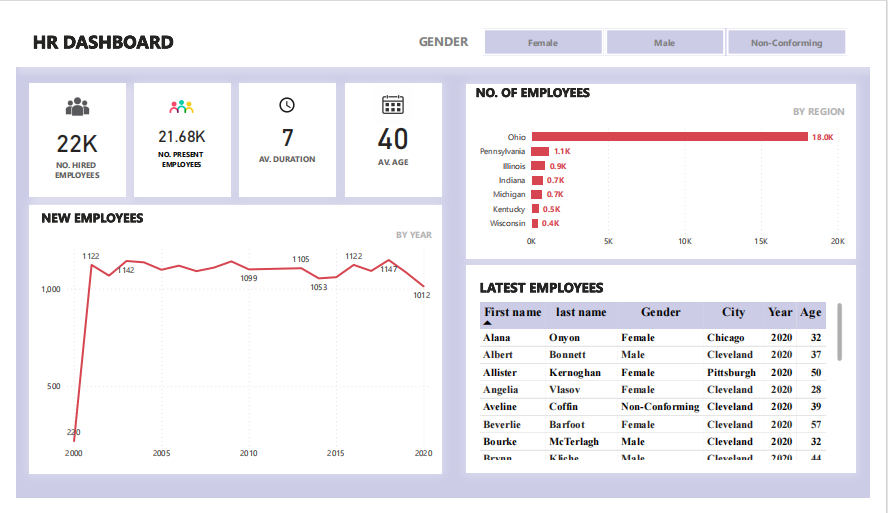

This screenshot's page, from the dashboard's own definition file:
{"tool":"powerbi","page":{"name":"Page 1","canvas":[1280,720],"ordinal":0},"visuals":[{"type":"shape","box":[0,0,1280,74.9],"z":0},{"type":"textbox","box":[20.2,13,260.6,49],"z":1000},{"type":"card","fields":{"Values":["Sum(present employees.Column1)"]},"box":[177.1,99.6,144,169.9],"z":2000},{"type":"card","fields":{"Values":["CountNonNull(HR Data.id)"]},"box":[20.2,98.9,144,169.9],"z":3000},{"type":"card","fields":{"Values":["Sum(average length of employment.Column1)"]},"box":[335,99.6,144,169.9],"z":4000},{"type":"image","box":[51.8,96,80.6,76.3],"z":5000},{"type":"card","fields":{"Values":["HR work.avg_age"]},"box":[493.9,99.6,144,169.9],"z":6000},{"type":"clusteredBarChart","title":"NO. OF EMPLOYEES","fields":{"Y":["CountNonNull(HR work.id)"],"Category":["HR work.location_state"]},"box":[675.4,99.6,583.2,262.1],"z":7000},{"type":"lineChart","title":"NEW EMPLOYEES","fields":{"Category":["HR work.hire_date.Variation.Date Hierarchy.Year","HR work.hire_date.Variation.Date Hierarchy.Quarter","HR work.hire_date.Variation.Date Hierarchy.Month","HR work.hire_date.Variation.Date Hierarchy.Day"],"Y":["CountNonNull(HR work.department)"]},"box":[20.2,281.8,617.8,401.8],"z":8000},{"type":"tableEx","title":"LATEST EMPLOYEES","fields":{"Values":["latest employees.Column2","latest employees.Column3","latest employees.Column5","latest employees.Column12","latest employees.Column10.Variation.Date Hierarchy.Year","latest employees.Column15"]},"box":[674.9,373.2,583.2,311],"z":9000},{"type":"image","box":[211.7,96,73.4,76.3],"z":10000},{"type":"image","box":[374.4,98.9,64.8,66.2],"z":11000},{"type":"image","box":[527,96,76.3,70.6],"z":12000},{"type":"slicer","fields":{"Values":["HR work.gender"]},"box":[661,10.1,609.1,54.7],"z":13000},{"type":"textbox","box":[589,18.7,103.7,36],"z":14000}]}

Visuals, with their boxes in screenshot pixels (x1, y1, x2, y2), scaled from the page's 1280x720 canvas onto the 888x513 screenshot:
shape: (0, 0, 887, 53)
textbox: (14, 9, 195, 44)
card - Sum(present employees.Column1): (123, 71, 223, 192)
card - CountNonNull(HR Data.id): (14, 70, 114, 192)
card - Sum(average length of employment.Column1): (232, 71, 332, 192)
image: (36, 68, 92, 123)
card - HR work.avg_age: (343, 71, 443, 192)
"NO. OF EMPLOYEES" clusteredBarChart: (469, 71, 873, 258)
"NEW EMPLOYEES" lineChart: (14, 201, 443, 487)
"LATEST EMPLOYEES" tableEx: (468, 266, 873, 487)
image: (147, 68, 198, 123)
image: (260, 70, 305, 118)
image: (366, 68, 419, 119)
slicer - HR work.gender: (459, 7, 881, 46)
textbox: (409, 13, 481, 39)
